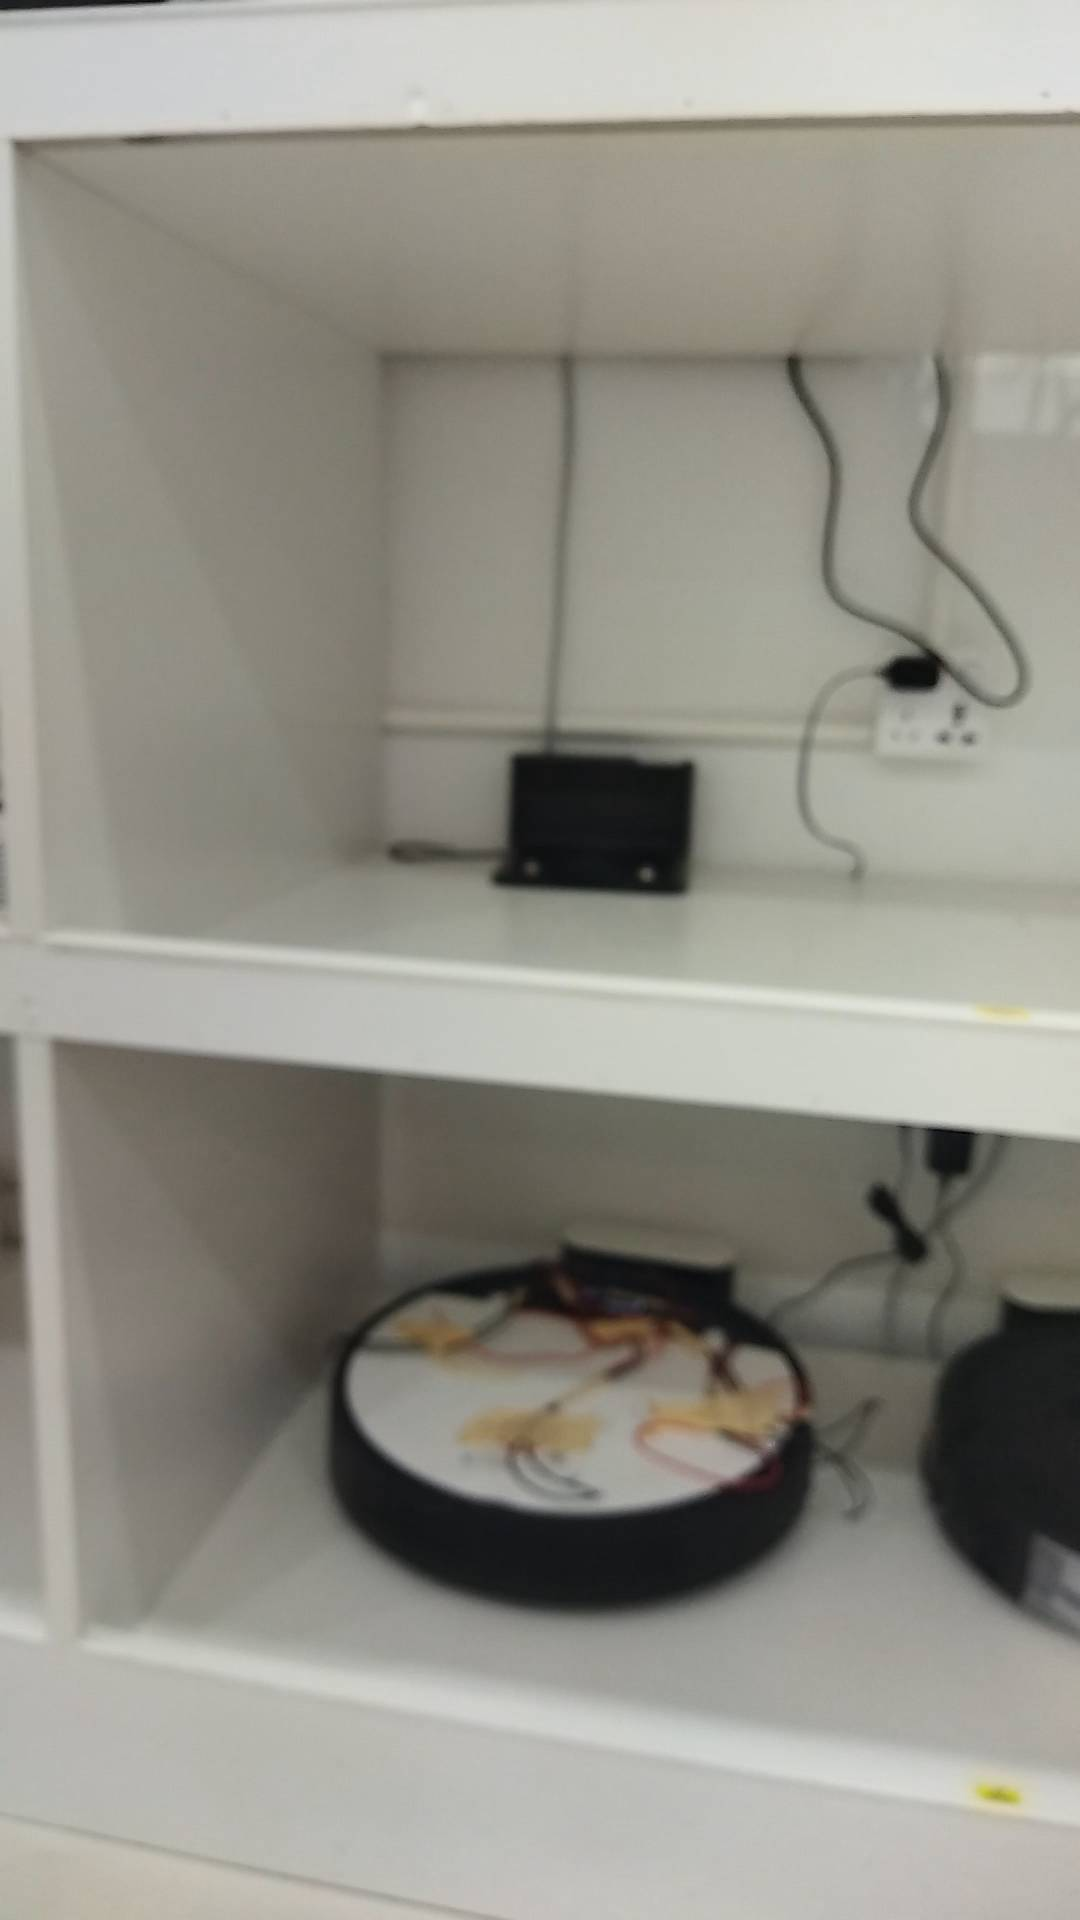recharge seat: (491, 745, 698, 899), (539, 1220, 752, 1295)
